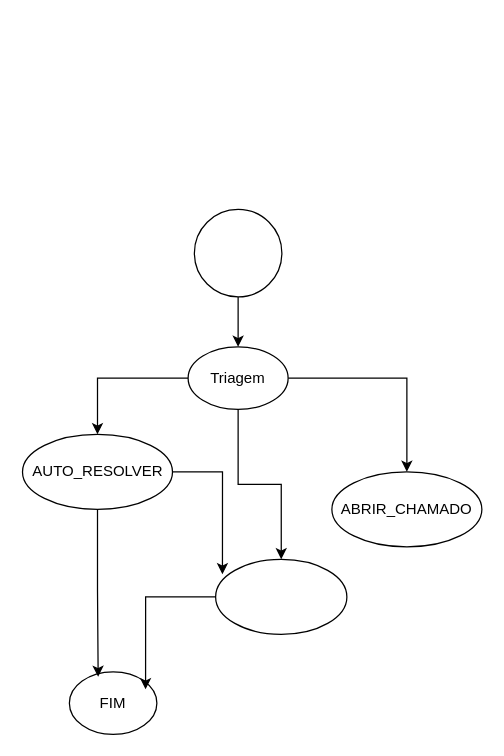
The diagram is 504 pixels wide and 756 high, and some of its shapes have lost their labels. The shapes that lost their labels are listed below. From the top down, each one's box as (x1, y1, x2, y2) in pixels, then its label:
(193, 208, 282, 297): START
(214, 558, 347, 634): PEDIR_INFO
